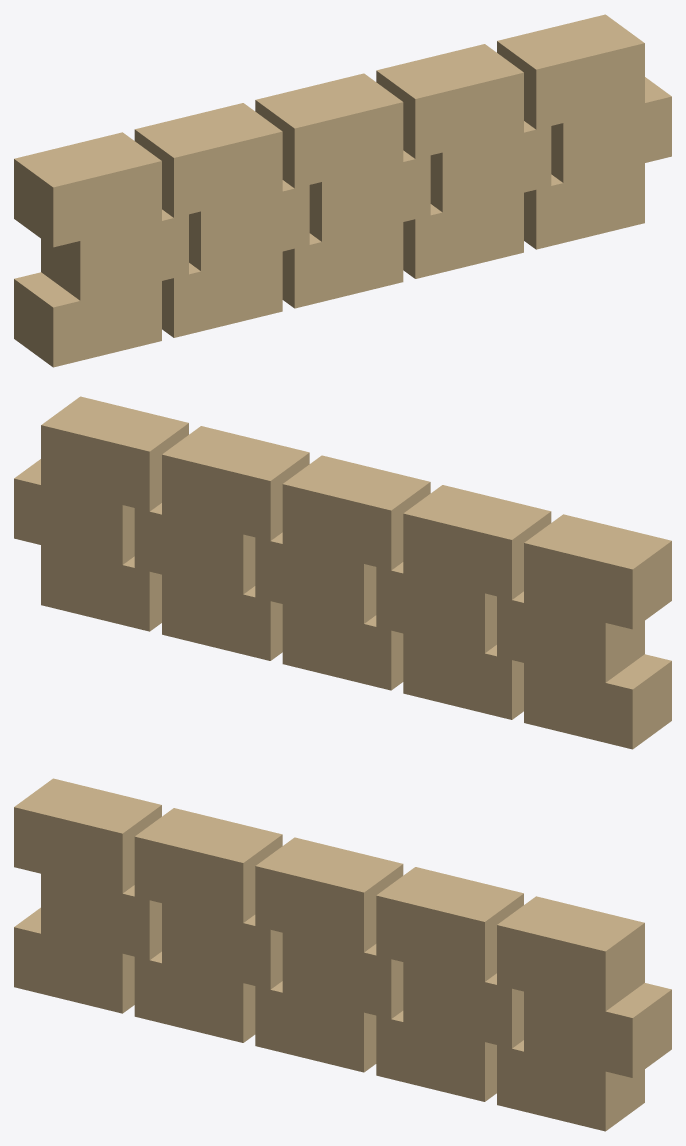
The model's file is Stone-wall.glb.
3 views of the same model, one above another, from view 1: azimuth 30°, elevation 25°; view 2: azimuth 150°, elevation 25°; view 3: azimuth 330°, elevation 25° (orthographic).
Visible parts, largest first — view 1: stone-wall-static-wall-stone; view 2: stone-wall-static-wall-stone; view 3: stone-wall-static-wall-stone.
Boxes of the visible parts, left/top/right/bottom form: stone-wall-static-wall-stone: left=14, top=14, right=671, bottom=367; stone-wall-static-wall-stone: left=14, top=396, right=671, bottom=749; stone-wall-static-wall-stone: left=14, top=778, right=671, bottom=1131.
Size of the model in its own units: 4.1 by 1.14 by 0.45.
